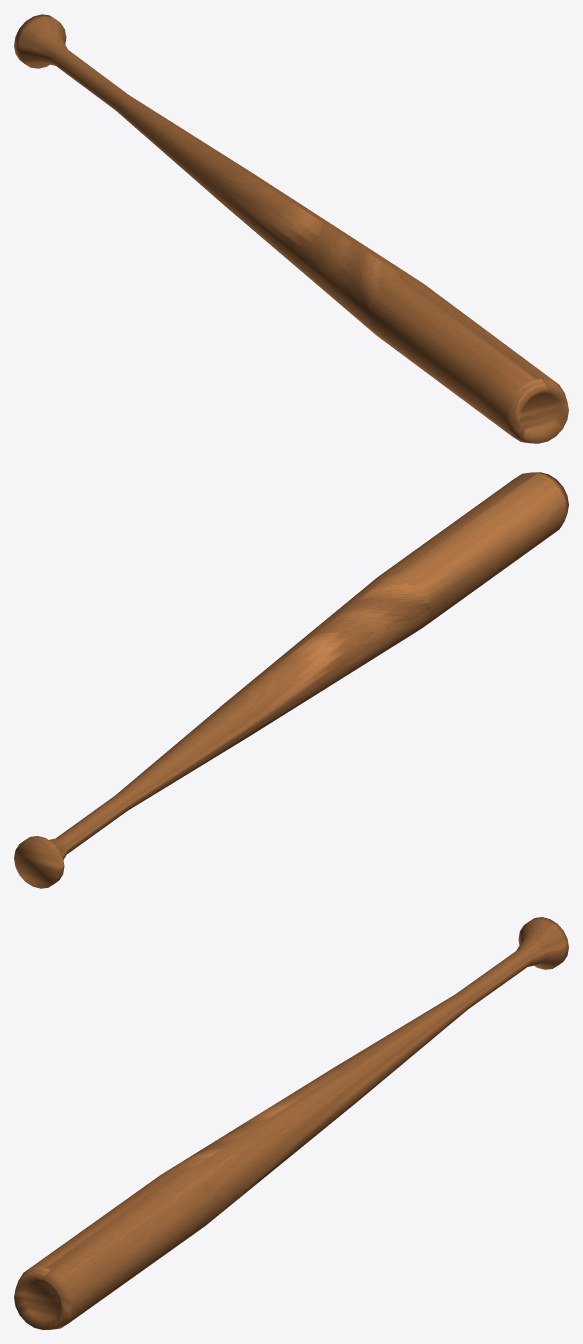
Rendered from Wood Bat.FBX.
3 renders of one model, top to bottom at view 1: azimuth 30°, elevation 25°; view 2: azimuth 150°, elevation 25°; view 3: azimuth 330°, elevation 25°, orthographic. The views are drawn at different scales.
Parts seen in each view (by area): view 1: Bat; view 2: Bat; view 3: Bat.
Part boxes in pixels (box(x1,y1,x2,y2)): Bat: box(14, 14, 568, 443); Bat: box(14, 472, 568, 888); Bat: box(14, 917, 568, 1329).
Bounding box in the file's own units: 11.52 × 11.03 × 163.
Materials: 1 (1 with a texture image).
